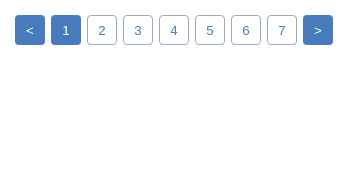
it: pagination › should go one page futher
Click the button with test id "goOnePageFurther". click: x=318, y=30
box: left=303, top=15, right=333, bottom=45
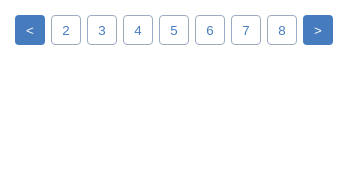
Expected: the button with test id "0" reads "2", left=51, top=15, right=81, bottom=45
